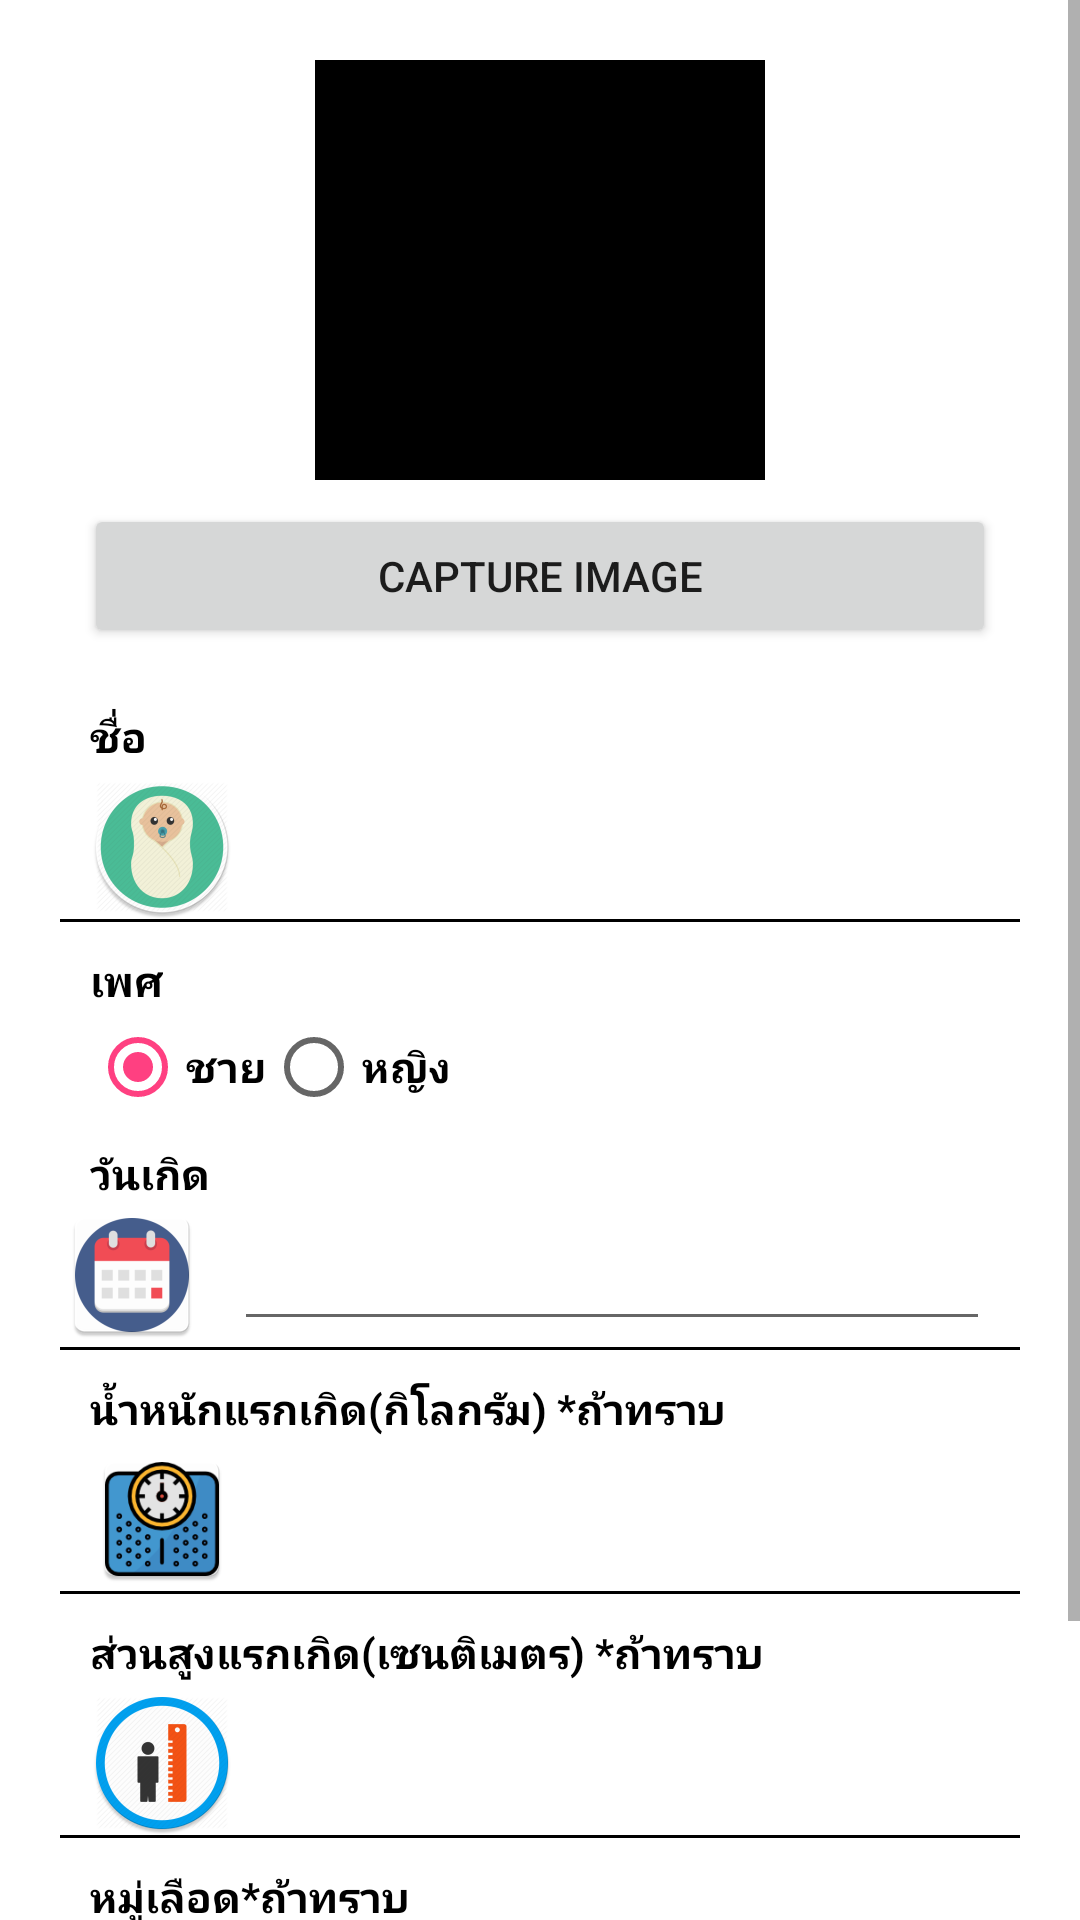

Named icons in this screenshot (1080×1920) and their centers, (x=x, y=y):
calendar: (x=132, y=1277)
